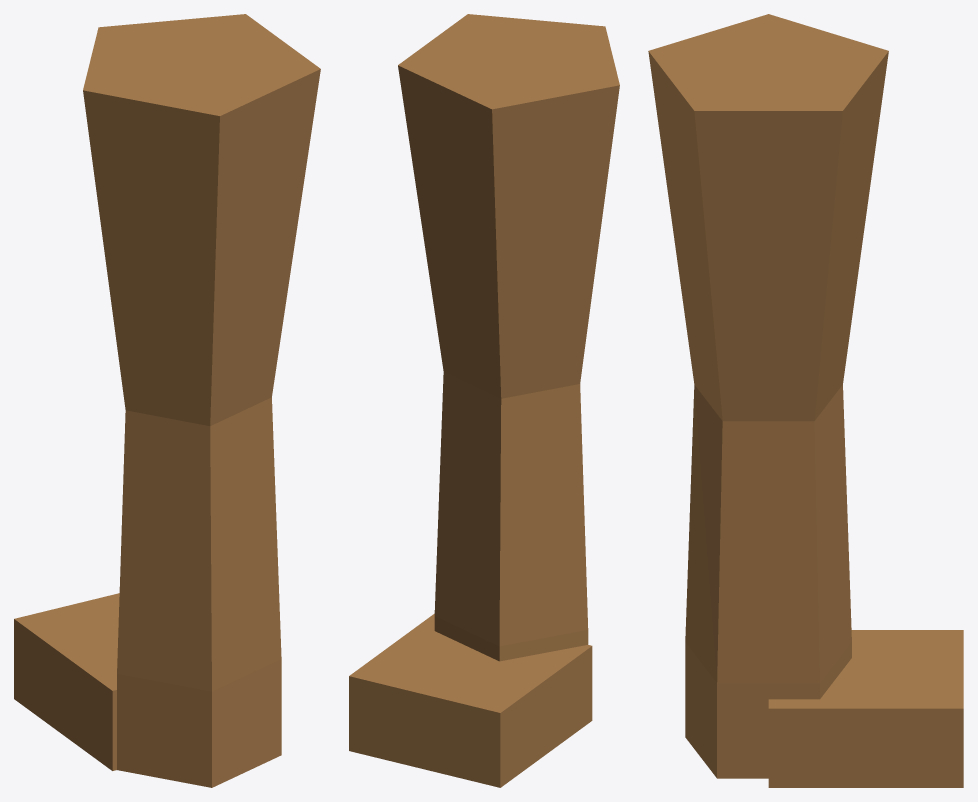
Rendered from animal_cat_leg.obj.
3 views of the same model, side by side, from view 1: azimuth 30°, elevation 25°; view 2: azimuth 150°, elevation 25°; view 3: azimuth 270°, elevation 25° (orthographic). The views are drawn at different scales.
Visible parts, largest first — view 1: animal_cat_leg; view 2: animal_cat_leg; view 3: animal_cat_leg.
Part boxes in pixels (x1,y1,x2,y2): animal_cat_leg: (14, 14, 320, 787); animal_cat_leg: (349, 14, 619, 787); animal_cat_leg: (648, 14, 963, 787).
Bounding box in the file's own units: 0.0583 × 0.1912 × 0.0802.
